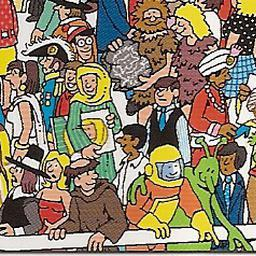waldo: (59, 21, 98, 67)
